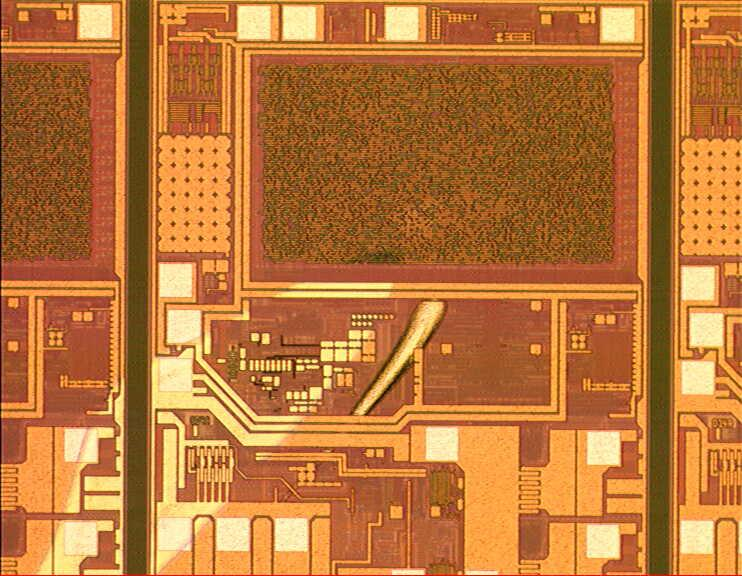BLOCK ETCH: (30, 237, 459, 576)
